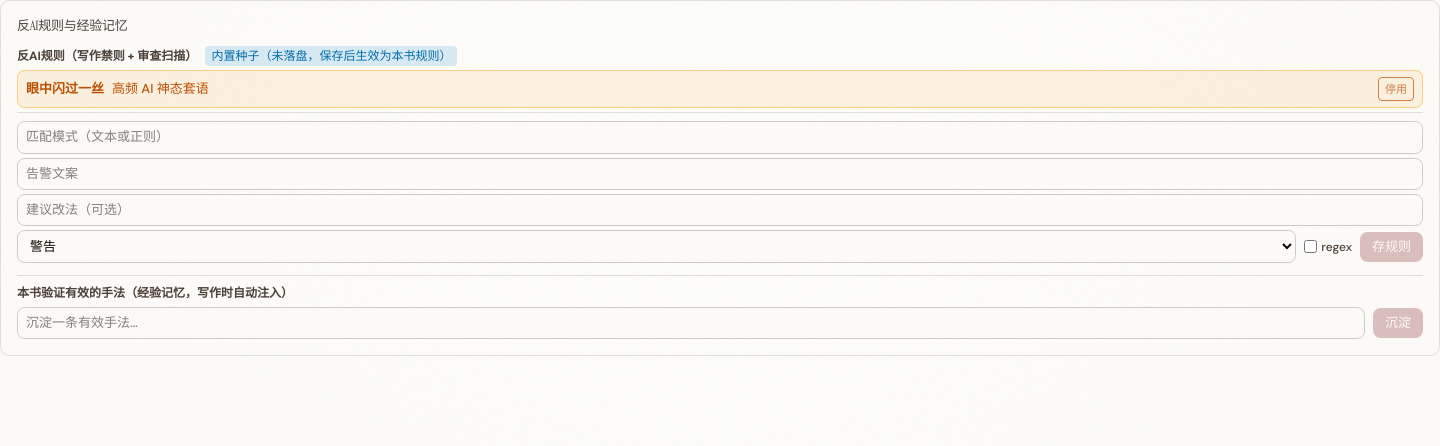
Test case: AntiAiAndExperiencePanel 交互（456 号） › 经验沉淀——PUT 载荷含条目文本且通知提示去重语义
The image size is (1440, 446).
Type "用镜面倒影切换视角制造悬念" into the field with placeholder "沉淀一条有效手法…". click: (691, 323)
box: x1=17 y1=307 x2=1365 y2=339
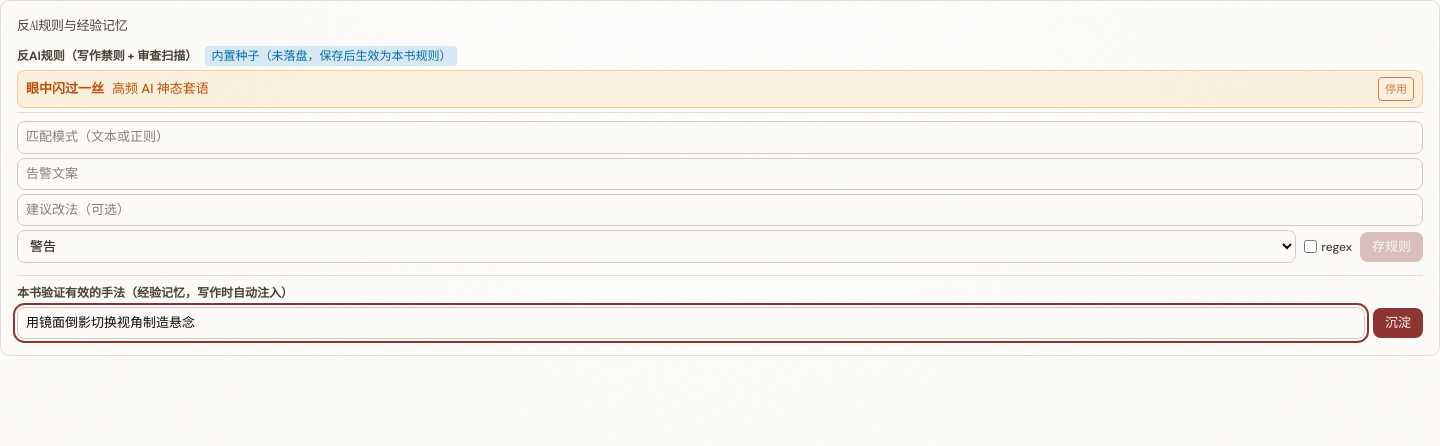
Click the button "沉淀". click: click(1398, 323)
box: x1=1373 y1=308 x2=1423 y2=338
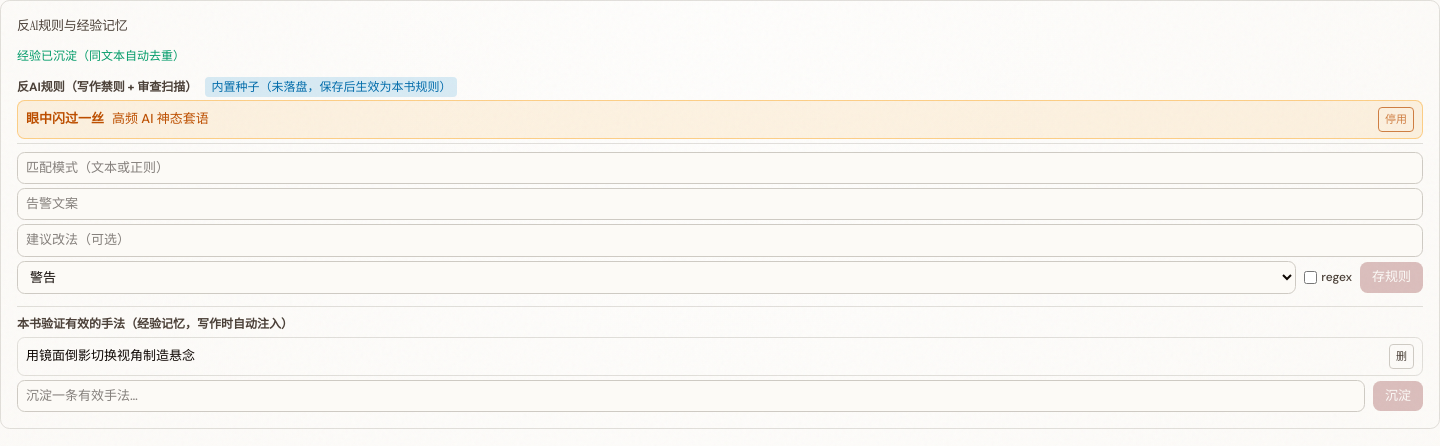
Now the text "经验已沉淀（同文本自动去重）" is shown, box x1=17 y1=48 x2=185 y2=64
Now the text "用镜面倒影切换视角制造悬念" is shown, box x1=26 y1=347 x2=195 y2=364
